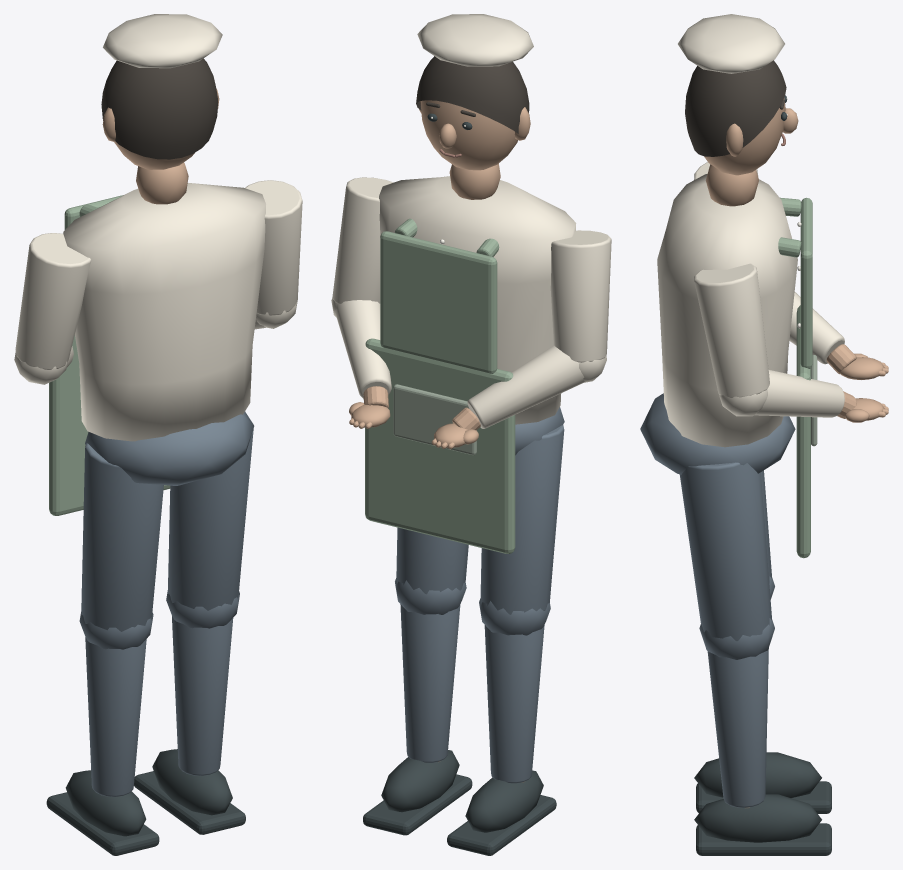
File: KitchenStaff.fbx
3 views of the same model, side by side, from view 1: azimuth 30°, elevation 25°; view 2: azimuth 150°, elevation 25°; view 3: azimuth 270°, elevation 25° (orthographic). The views are drawn at different scales.
Parts seen in each view (by area): view 1: Tailored shirt, Trousers upper leg, Trousers upper leg.001, Shaped short hair, Trousers lower leg.001, Trousers lower leg, Shirt upper sleeve, Pelvis trousers, Apron skirt, Shirt upper sleeve.001, Service cap, Shoe upper (+8 smaller); view 2: Apron skirt, Tailored shirt, Apron bib, Trousers upper leg, Trousers lower leg, Trousers lower leg.001, Shirt upper sleeve, Shirt upper sleeve.001, Shaped short hair, Service cap, Shirt fore sleeve, Adult head (+13 smaller); view 3: Tailored shirt, Trousers upper leg.001, Trousers lower leg.001, Shirt upper sleeve.001, Shaped short hair, Pelvis trousers, Service cap, Shoe upper.001, Shirt fore sleeve.001, Shoe upper, Shoe sole.001, Apron skirt (+9 smaller).
Part boxes in pixels (left/top/right/bottom): Tailored shirt: left=63, top=183, right=265, bottom=441; Trousers upper leg: left=81, top=443, right=163, bottom=631; Trousers upper leg.001: left=167, top=429, right=253, bottom=610; Shaped short hair: left=101, top=58, right=217, bottom=159; Trousers lower leg.001: left=172, top=616, right=233, bottom=775; Trousers lower leg: left=85, top=637, right=146, bottom=796; Shirt upper sleeve: left=15, top=233, right=91, bottom=369; Pelvis trousers: left=85, top=411, right=254, bottom=485; Apron skirt: left=49, top=335, right=170, bottom=515; Shirt upper sleeve.001: left=245, top=180, right=302, bottom=315; Service cap: left=103, top=14, right=222, bottom=68; Shoe upper: left=65, top=770, right=146, bottom=836; Apron skirt: left=365, top=338, right=515, bottom=553; Tailored shirt: left=379, top=176, right=576, bottom=424; Apron bib: left=380, top=231, right=497, bottom=373; Trousers upper leg: left=480, top=424, right=564, bottom=614; Trousers lower leg: left=484, top=625, right=544, bottom=783; Trousers lower leg.001: left=400, top=604, right=460, bottom=762; Shirt upper sleeve: left=550, top=230, right=611, bottom=362; Shirt upper sleeve.001: left=332, top=177, right=393, bottom=303; Shaped short hair: left=416, top=56, right=529, bottom=133; Service cap: left=417, top=14, right=533, bottom=66; Shirt fore sleeve: left=467, top=345, right=585, bottom=428; Adult head: left=421, top=100, right=517, bottom=170; Tailored shirt: left=657, top=174, right=797, bottom=447; Trousers upper leg.001: left=679, top=462, right=772, bottom=640; Trousers lower leg.001: left=707, top=648, right=768, bottom=807; Shirt upper sleeve.001: left=694, top=263, right=769, bottom=398; Shaped short hair: left=685, top=60, right=786, bottom=156; Pelvis trousers: left=640, top=393, right=795, bottom=474; Service cap: left=678, top=14, right=784, bottom=73; Shoe upper.001: left=694, top=794, right=821, bottom=842; Shirt fore sleeve.001: left=754, top=370, right=844, bottom=417; Shoe upper: left=694, top=752, right=821, bottom=797; Shoe sole.001: left=696, top=823, right=831, bottom=855; Apron skirt: left=796, top=305, right=810, bottom=558.
Bounding box in the file's own units: 64.84 × 181 × 51.2.
